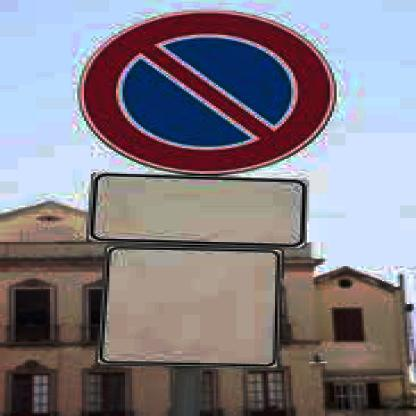No parking: (59, 6, 344, 177)
